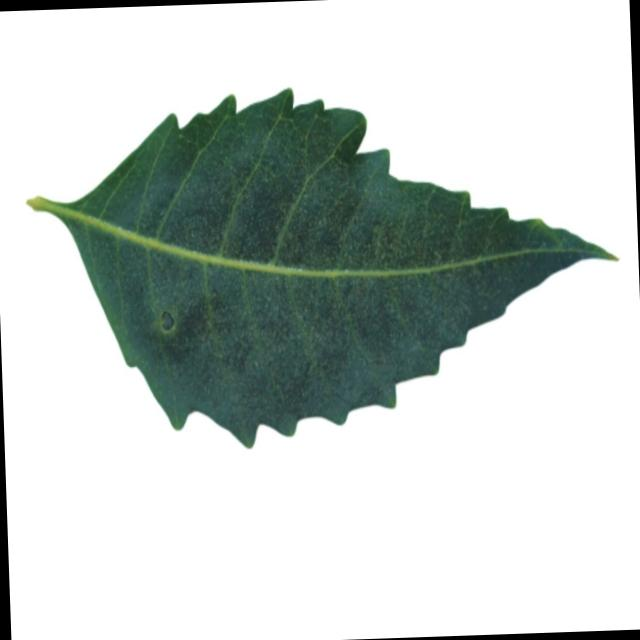Medicinal-Neem: (24, 78, 626, 454)
